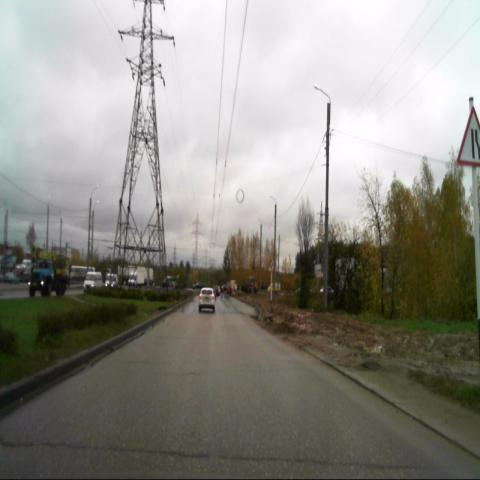1_20_2: (456, 102, 480, 168)
